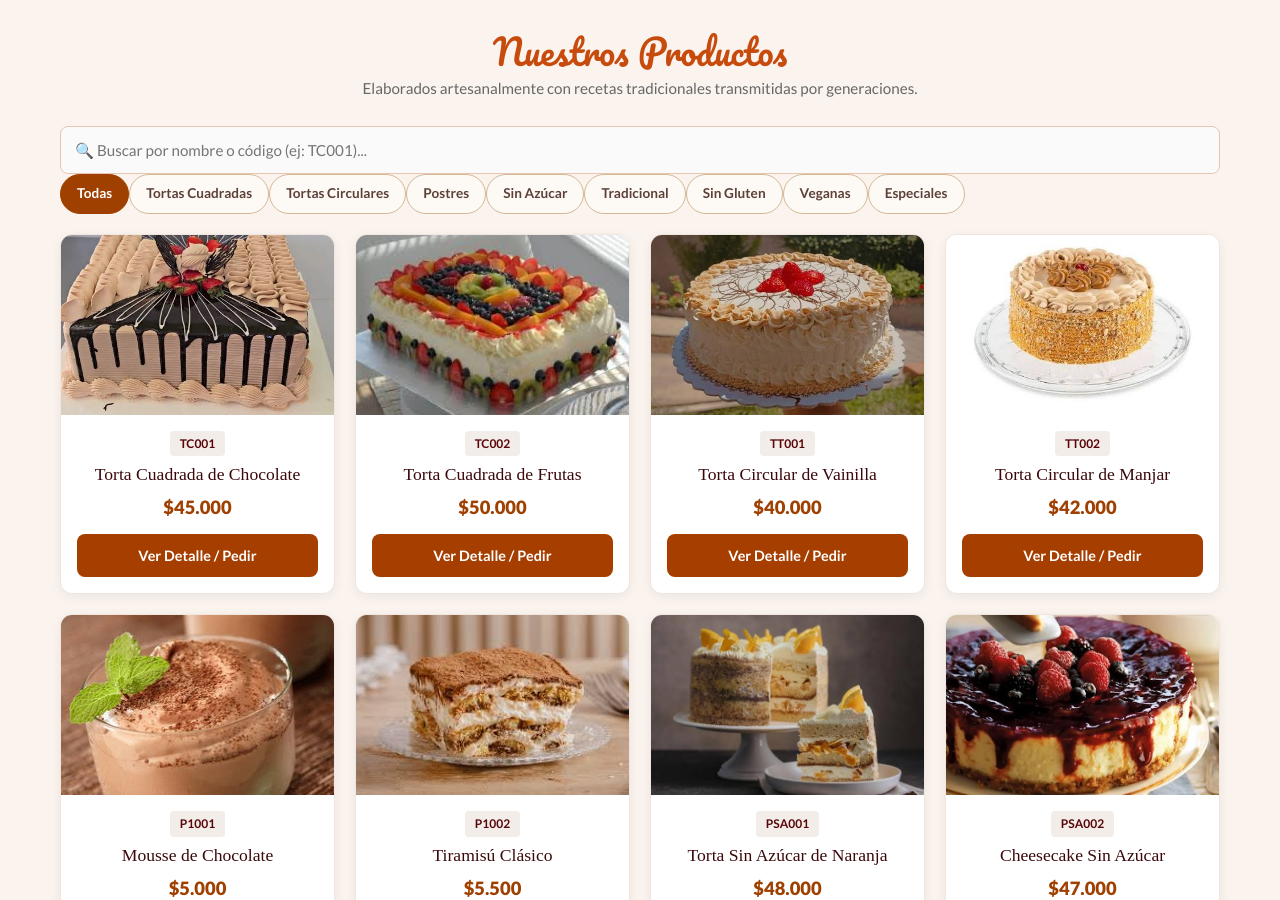
Scenario: Pruebas de Componente - Catálogo y Modal › Debe abrir el modal de detalle al presionar "Ver Detalle / Pedir"
Click the button "Ver Detalle / Pedir" below "45.000" at x=198, y=556, box [77, 534, 318, 577]
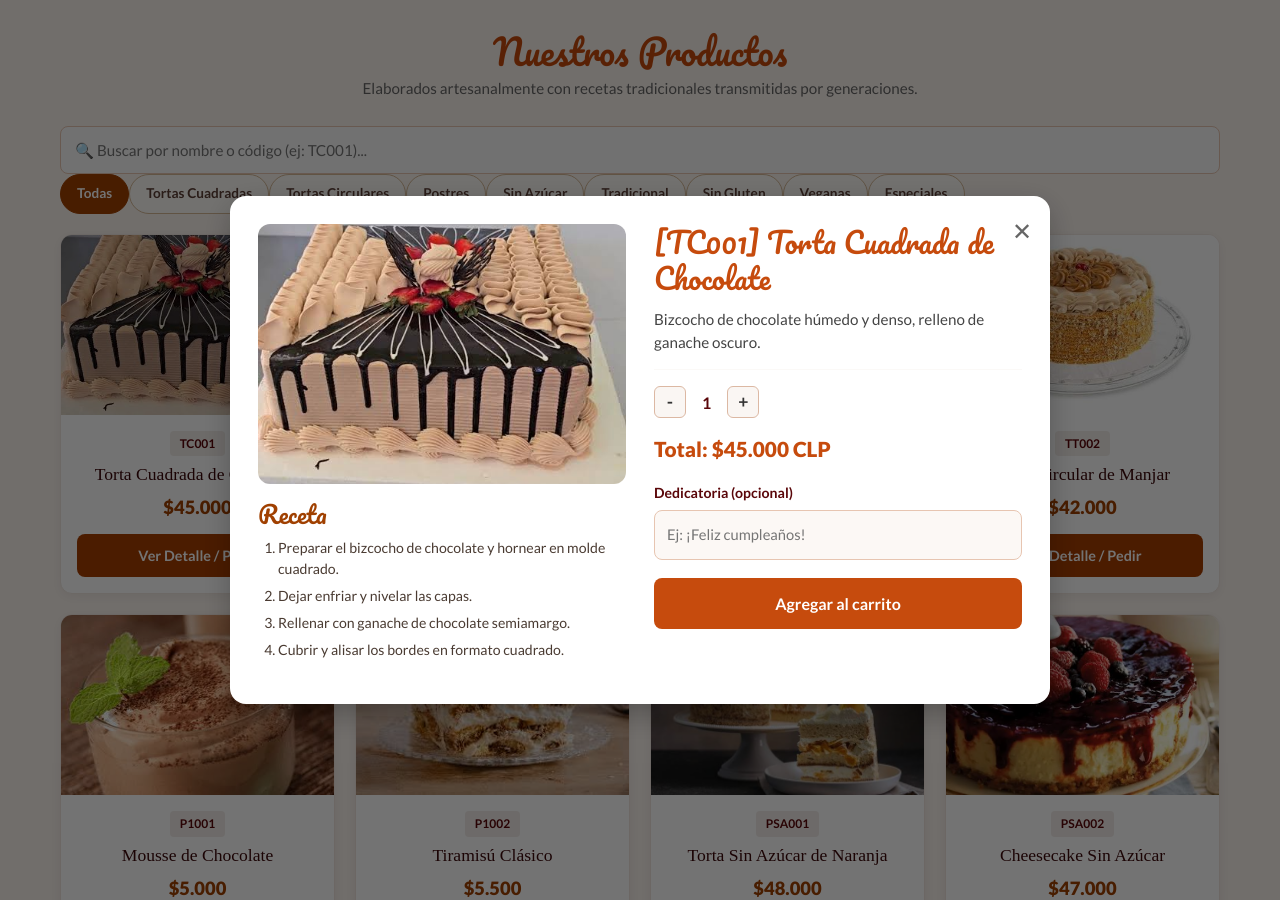
expect the heading "Receta" is shown: met, box [258, 493, 327, 535]
